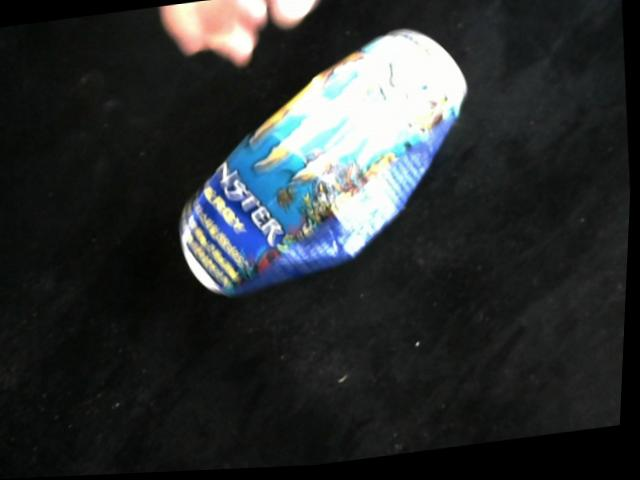can: (177, 32, 471, 298)
